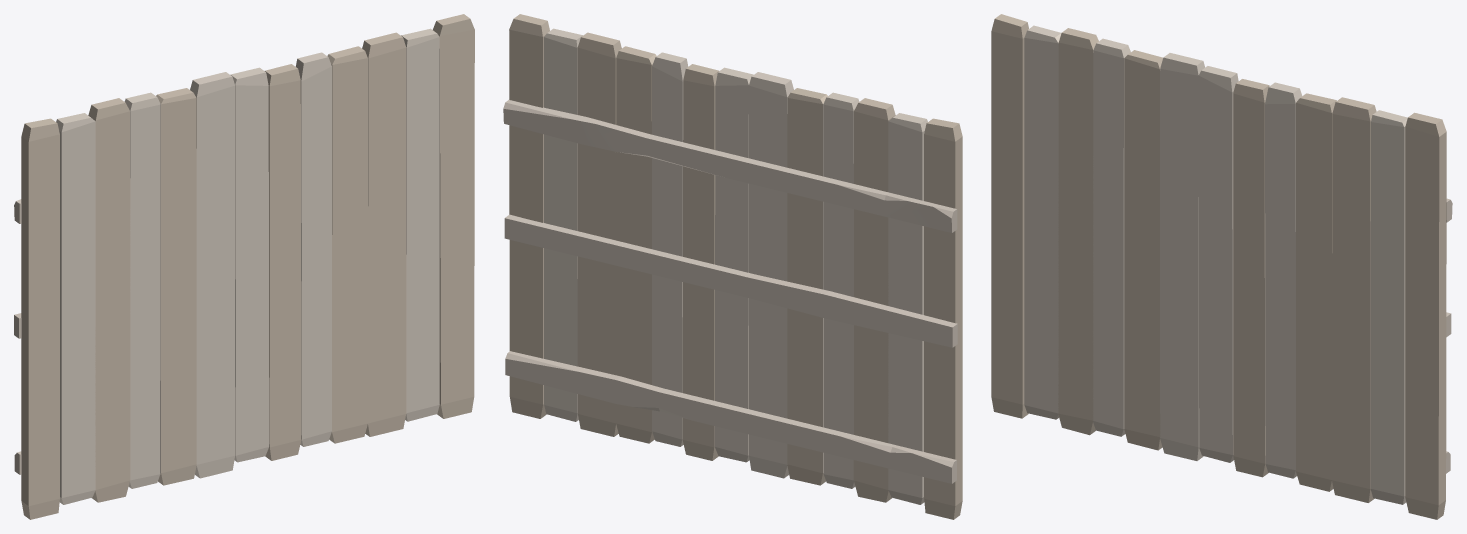
File: Fence.fbx
The picture shows the model from 3 angles, left to right: view 1: azimuth 30°, elevation 25°; view 2: azimuth 150°, elevation 25°; view 3: azimuth 330°, elevation 25°; orthographic projection.
Parts seen in each view (by area): view 1: Cube; view 2: Cube; view 3: Cube.
Boxes of the visible parts, box(x1,y1,x2,y2) form: Cube: box(14, 14, 474, 519); Cube: box(503, 14, 962, 519); Cube: box(991, 14, 1452, 519).
Size of the model in its own units: 251 by 211 by 12.53.
